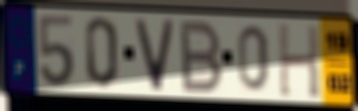0: (83, 14, 121, 92), (235, 23, 273, 95)
5: (38, 13, 77, 89)
B: (179, 18, 225, 95)
H: (276, 20, 322, 101)
V: (133, 17, 177, 93)
